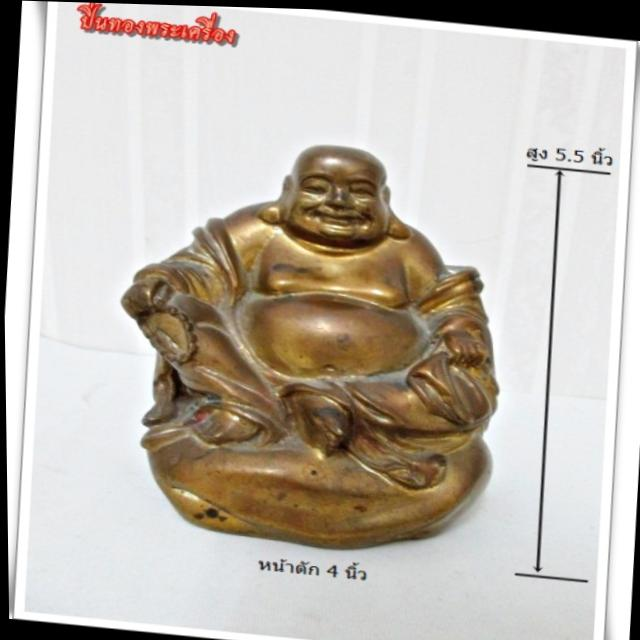Smiling Buddha: (119, 122, 511, 492)
